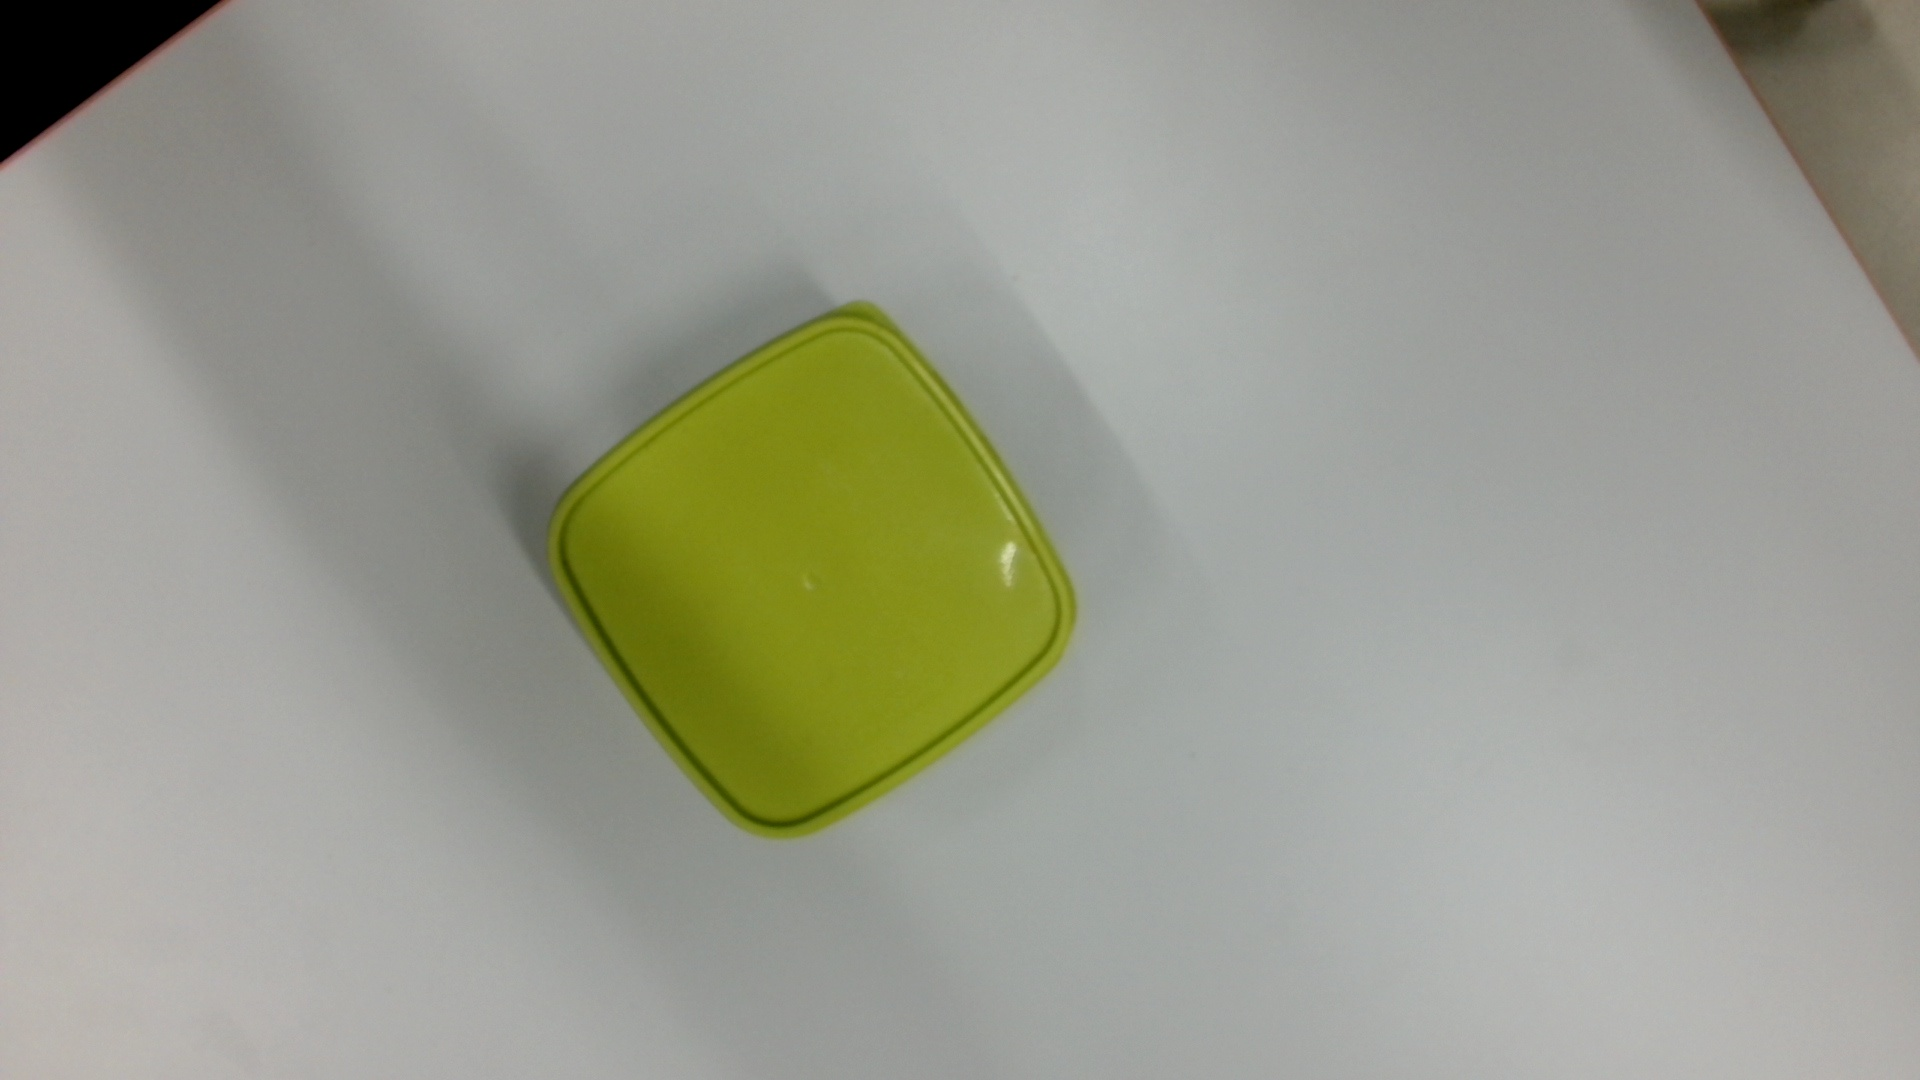Box: (537, 293, 1091, 847)
